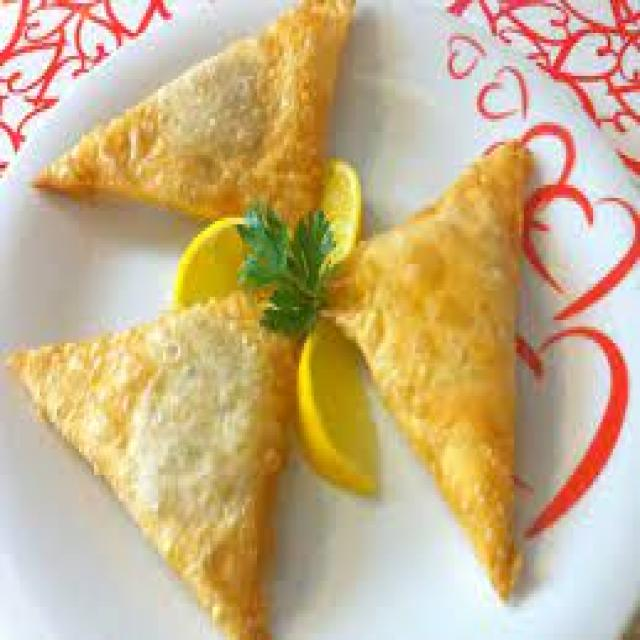brik: (332, 123, 573, 614), (24, 290, 318, 640), (30, 0, 365, 242)
